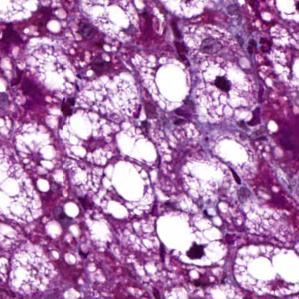ballooning: (137, 56, 263, 124), (151, 208, 231, 268), (59, 106, 126, 169)
